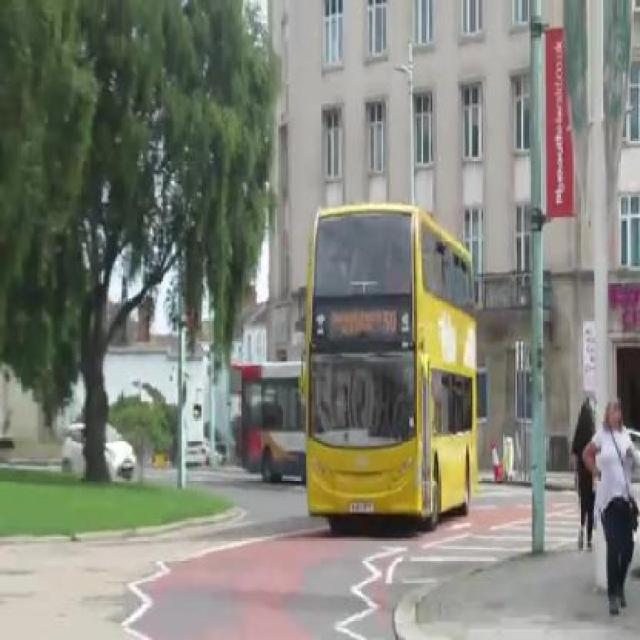bus: (304, 200, 471, 527)
